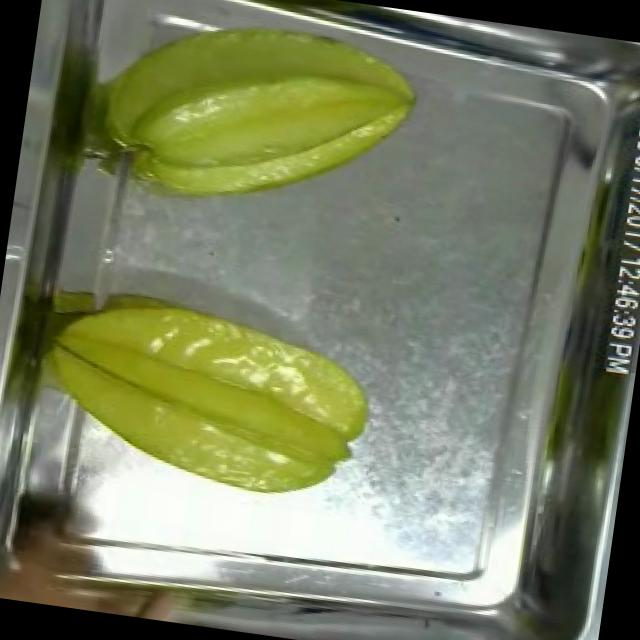fruit: (12, 268, 386, 514), (77, 0, 441, 242), (0, 531, 227, 629)
